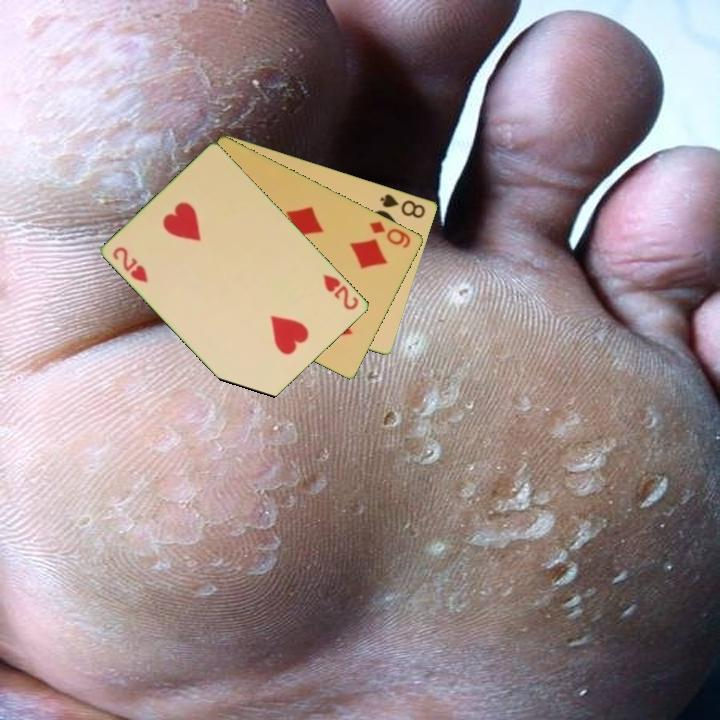2h: (319, 270, 362, 313), (109, 243, 151, 286)
6d: (366, 217, 414, 251)
8s: (377, 190, 428, 221)
